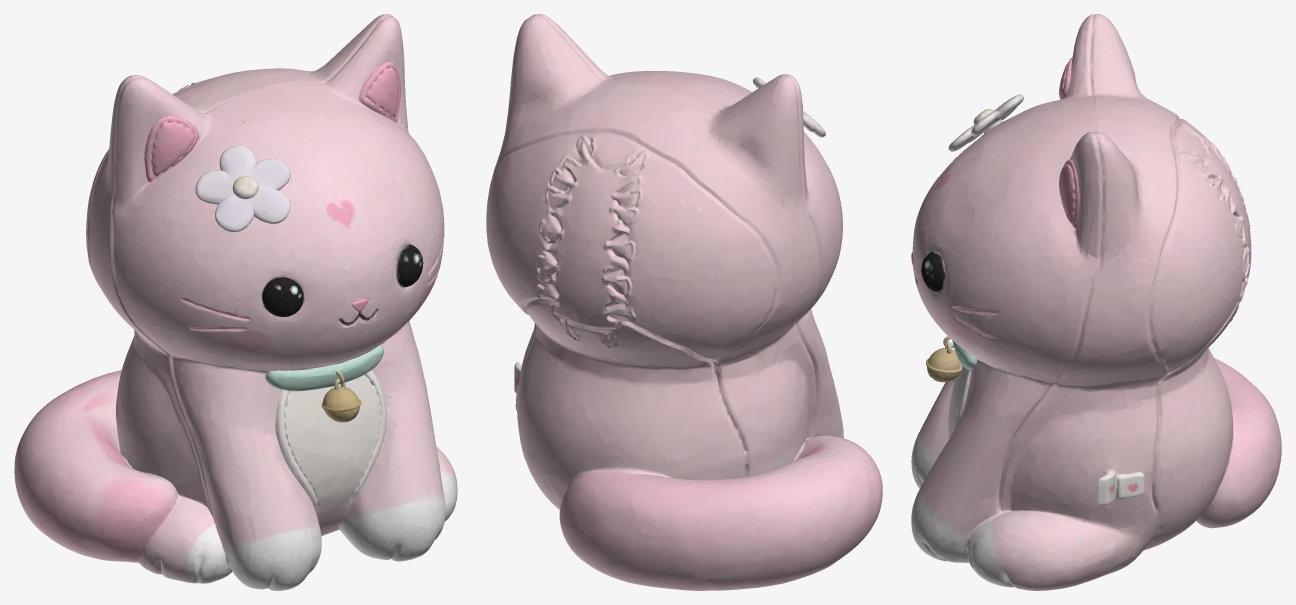
Rendered from sakuracat.gen.glb.
3 views of the same model, side by side, from view 1: azimuth 30°, elevation 25°; view 2: azimuth 150°, elevation 25°; view 3: azimuth 270°, elevation 25° (orthographic). The views are drawn at different scales.
Parts seen in each view (by area): view 1: LOD0; view 2: LOD0; view 3: LOD0.
Part boxes in pixels (bbox=[...]): LOD0: bbox=[14, 14, 457, 590]; LOD0: bbox=[486, 14, 882, 590]; LOD0: bbox=[911, 14, 1281, 590].
Size of what is drawn, in the model's own units: 0.1713 by 0.2058 by 0.1535.
Materials: 1 (1 with a texture image).
